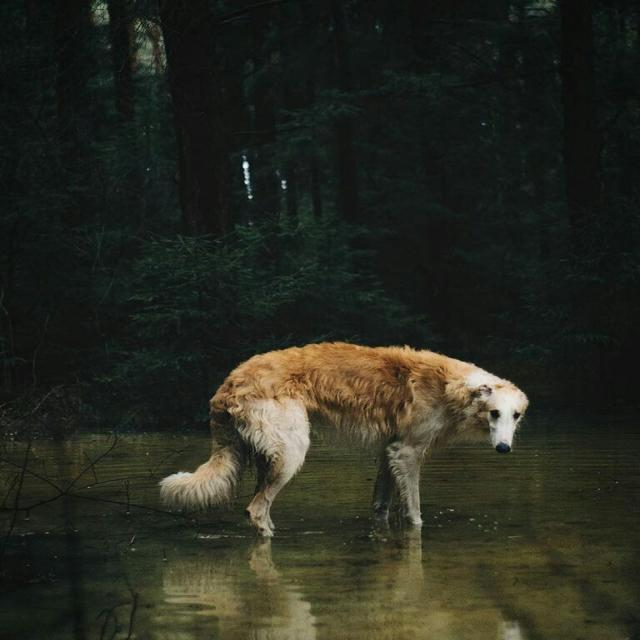Dogs: (154, 338, 534, 548)
